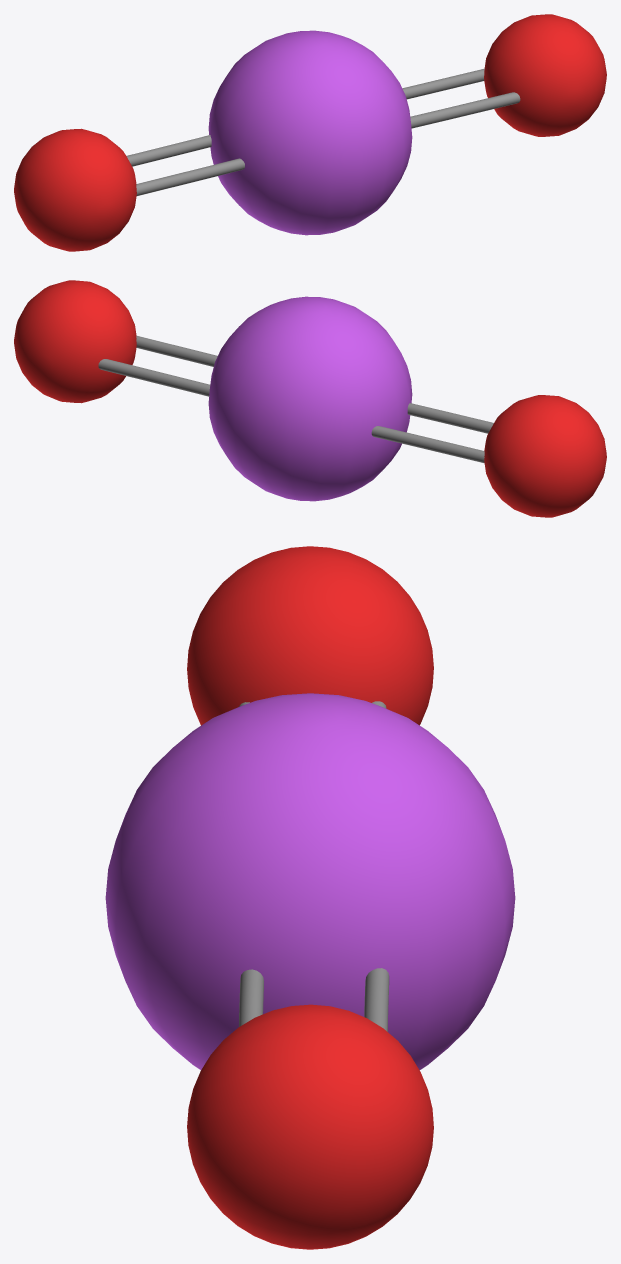
The model's file is SiO2.fbx.
The picture shows the model from 3 angles, top to bottom: view 1: azimuth 30°, elevation 25°; view 2: azimuth 150°, elevation 25°; view 3: azimuth 270°, elevation 25°; orthographic projection. The views are drawn at different scales.
Parts seen in each view (by area): view 1: SiO2; view 2: SiO2; view 3: SiO2.
Part boxes in pixels (x1,y1,x2,y2): SiO2: [14, 14, 606, 251]; SiO2: [14, 280, 606, 517]; SiO2: [105, 546, 515, 1249].
Size of the model in its own units: 9.97 by 3.07 by 3.07.
